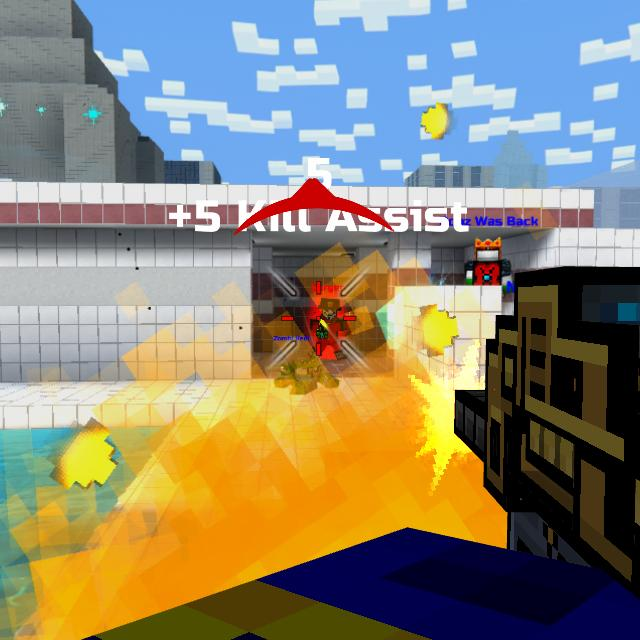Enemy: (311, 300, 350, 360)
